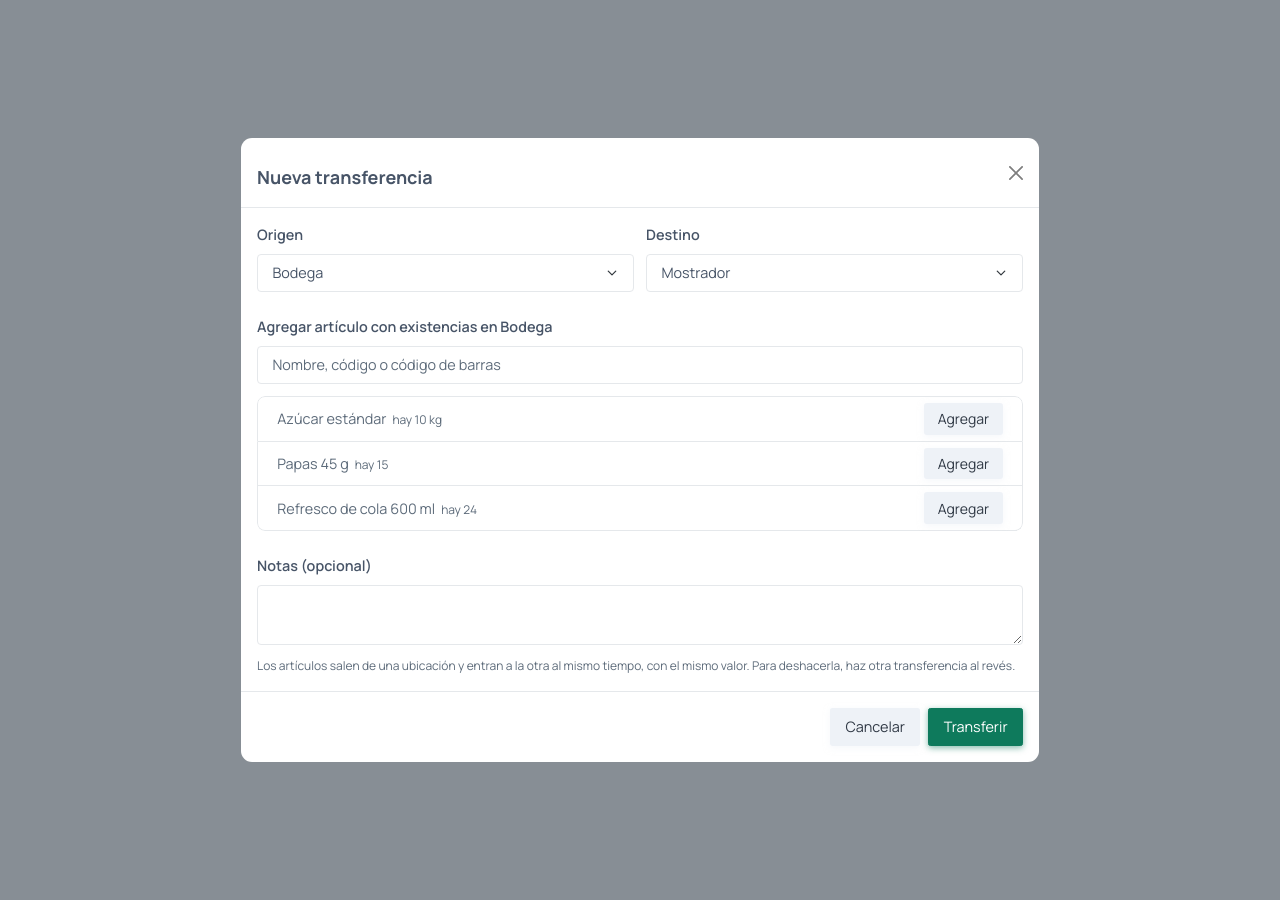
it: NewTransferModal › refuses more than the origin has, and another origin drops what was chosen
The image size is (1280, 900).
Click the button with aria-label "Agregar Papas 45 g": point(963, 463) [924,448,1003,479]
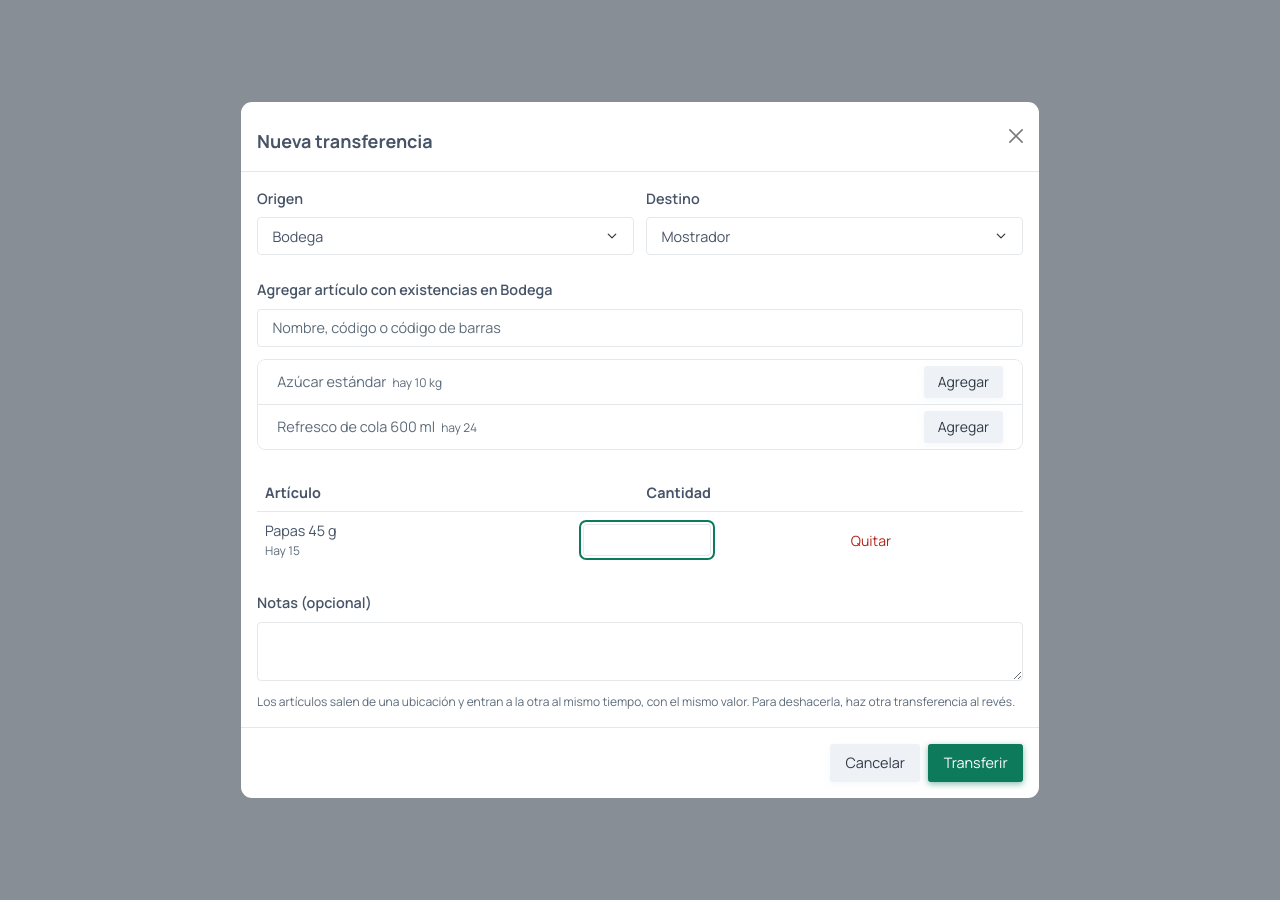
In the field named "Cantidad de Papas 45 g": point(647, 540) [583,524,711,556], type "20"
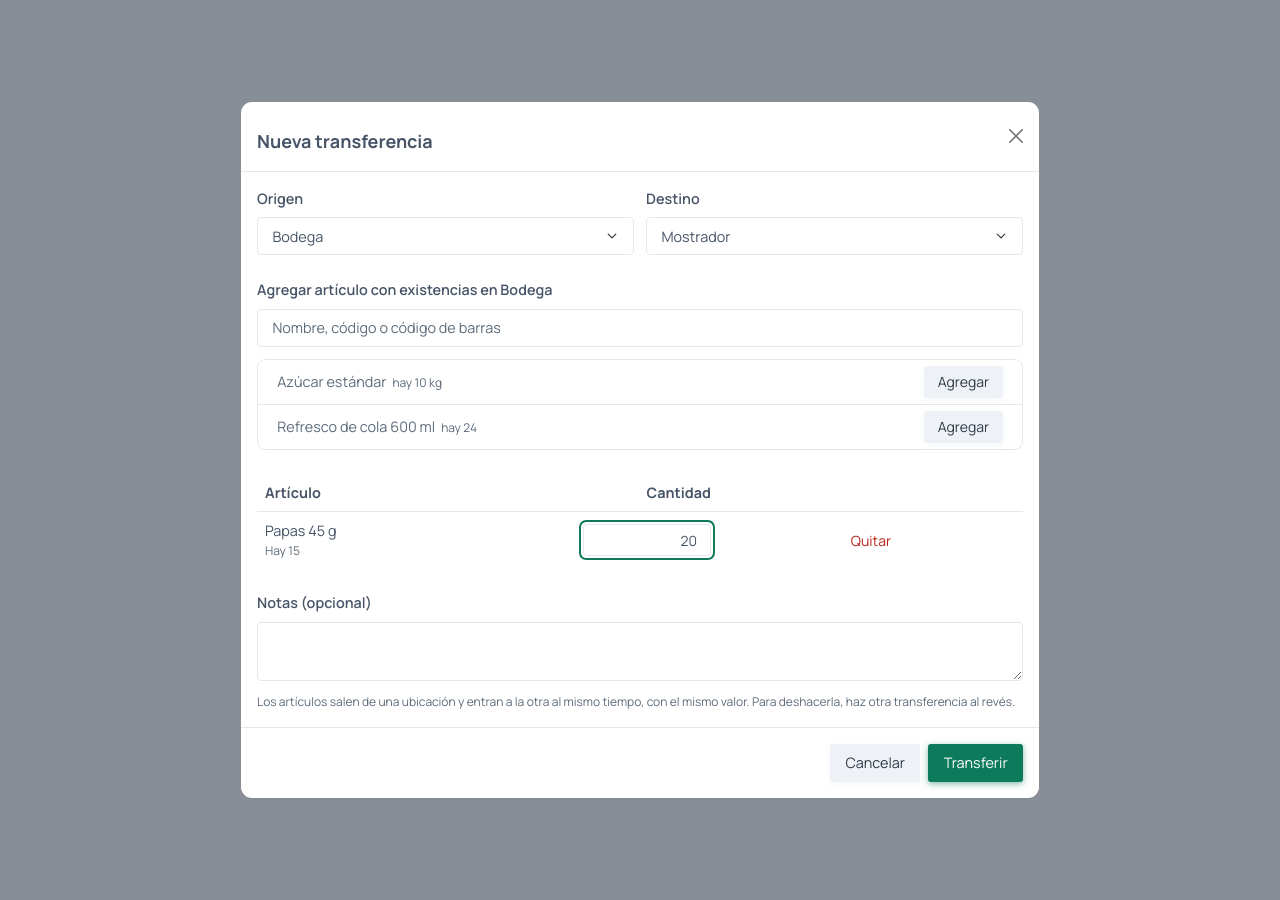
Click the button "Transferir": point(976, 763) [928,744,1023,782]
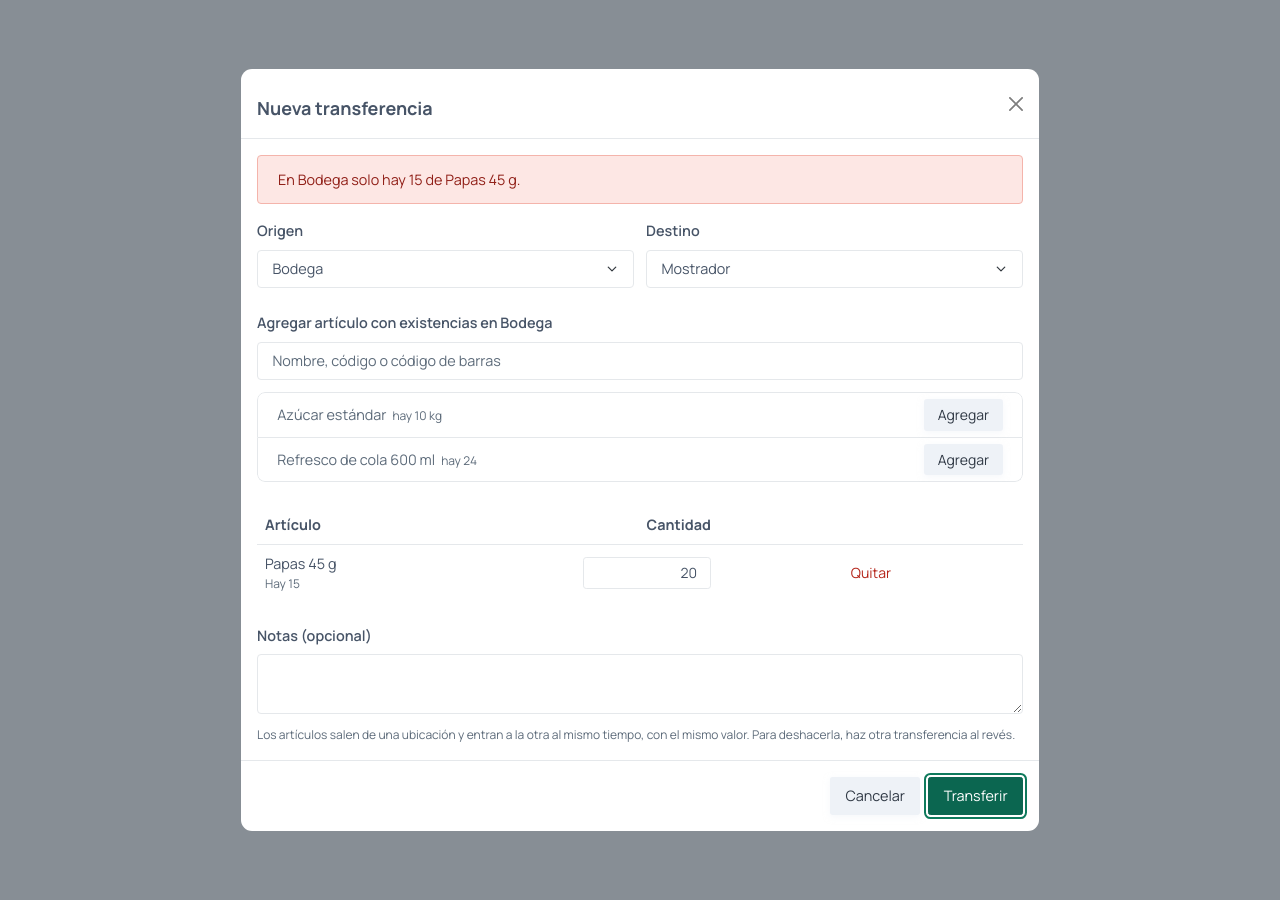
Expected: the message reads "En Bodega solo hay 15 de Papas 45 g.", [278,170,520,189]
Select "Mostrador" in the dropdown labelled "Origen": point(446, 269) [257,250,634,288]
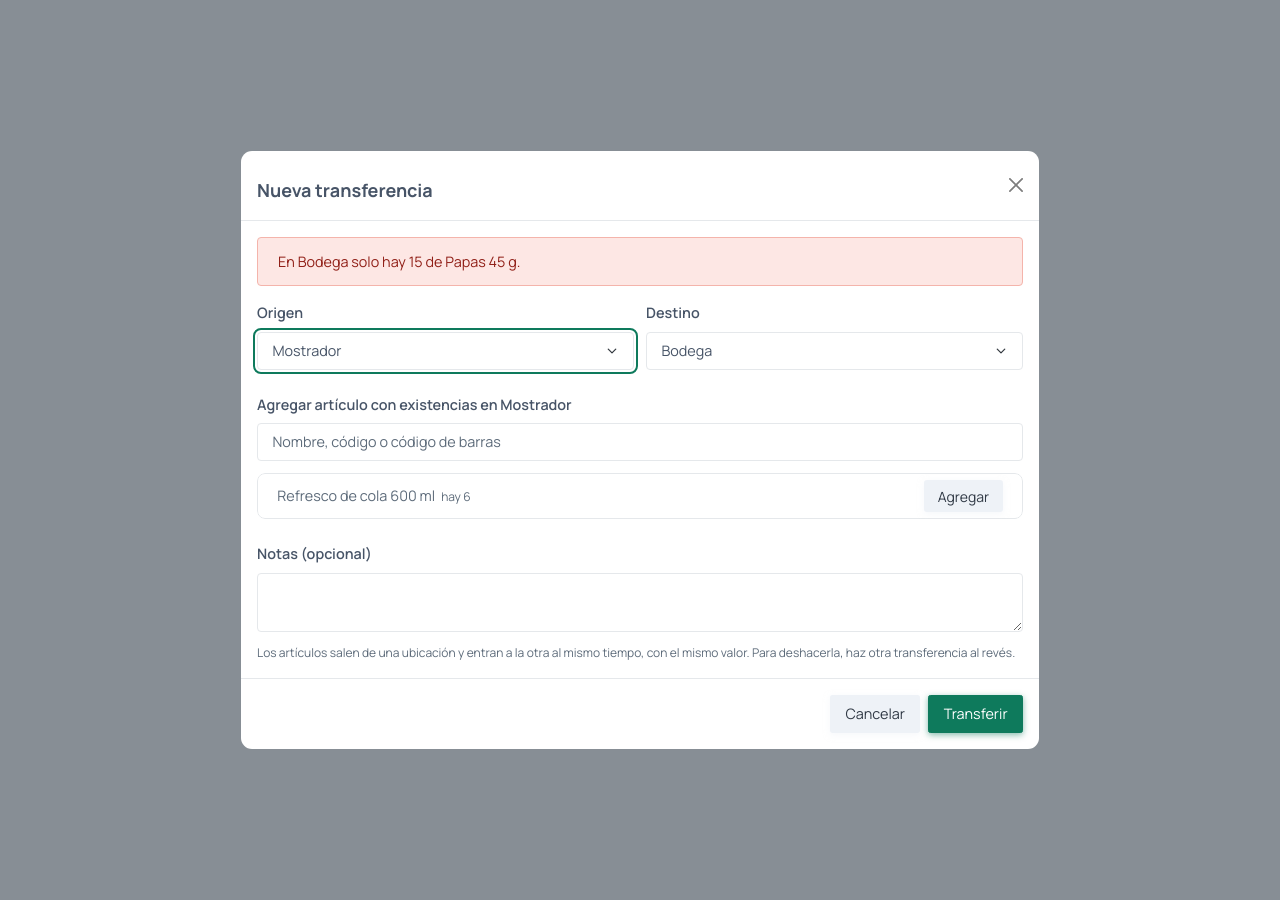
Expected: the dropdown labelled "Destino" shows "Bodega", [646,332,1023,370]
Expected: the button with aria-label "Agregar Refresco de cola 600 ml" is shown, [924,480,1003,512]
